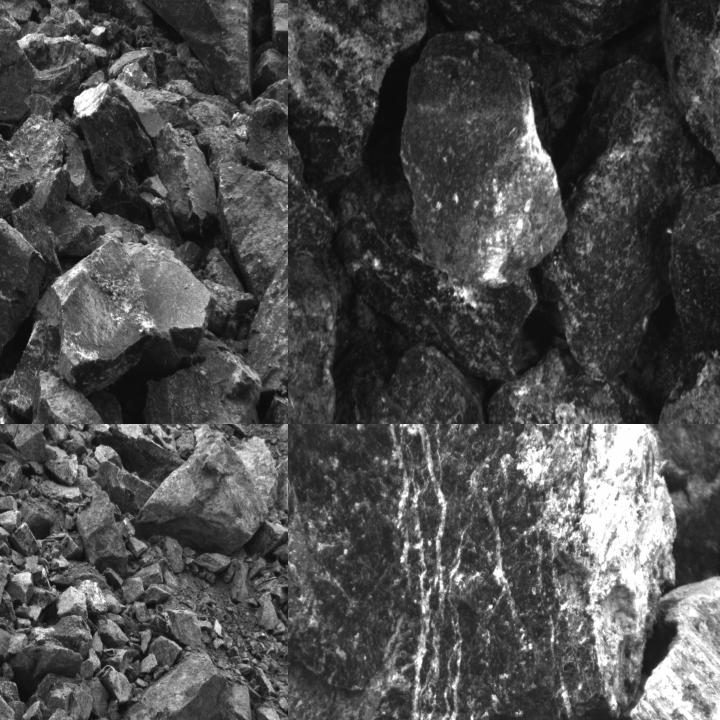stone: (288, 424, 679, 719), (531, 57, 719, 382), (338, 130, 538, 382), (401, 30, 566, 290), (288, 0, 429, 195), (288, 64, 340, 423), (134, 424, 277, 554), (34, 240, 154, 389), (106, 0, 253, 107), (488, 332, 660, 423), (626, 569, 719, 719), (327, 345, 498, 423), (420, 0, 660, 52), (627, 424, 719, 557), (120, 242, 214, 372), (657, 0, 719, 182), (220, 164, 287, 306), (0, 27, 82, 134), (72, 81, 152, 184), (115, 645, 225, 719), (145, 354, 262, 423), (155, 124, 219, 238), (0, 315, 61, 421), (249, 234, 287, 392), (29, 372, 139, 423), (75, 486, 130, 572), (246, 98, 287, 209), (93, 463, 156, 519), (0, 127, 36, 220), (33, 671, 91, 719), (62, 0, 159, 28), (28, 615, 92, 655), (34, 166, 72, 221), (166, 608, 204, 650), (0, 378, 34, 423), (74, 578, 110, 620), (10, 424, 47, 462), (97, 667, 133, 705), (0, 623, 27, 665), (6, 570, 35, 606), (46, 453, 78, 485), (97, 617, 130, 648), (149, 635, 183, 665), (57, 585, 87, 617), (10, 522, 38, 555), (0, 442, 30, 472), (192, 551, 232, 573), (0, 462, 25, 494), (144, 584, 174, 605), (0, 682, 17, 719), (121, 577, 145, 603), (44, 424, 71, 445), (0, 424, 19, 445)
